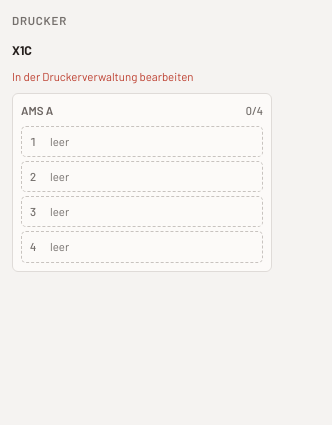
Scenario: PrinterColumn slot menu suggestion › marks the equal spool with the smallest usable rest as the suggestion
The width and height of the screenshot is (332, 425).
Click the button with test id "slot-u1-1" at (142, 176), box [21, 161, 263, 192]
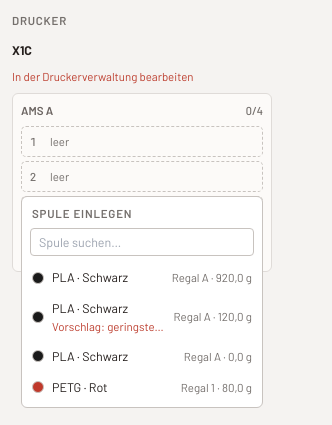
Now the text "Vorschlag: geringster Rest" is shown once, box [52, 318, 166, 335]
Now the button "Vorschlag: geringster Rest" shows "120,0 g", box [22, 293, 262, 341]
